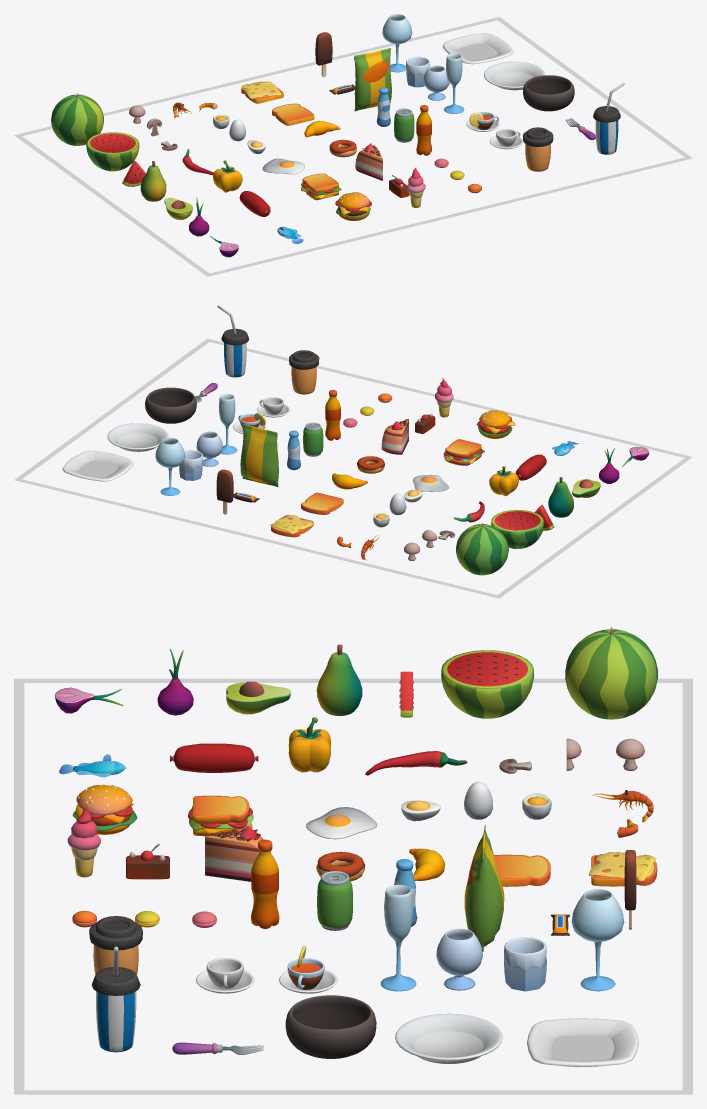
The model's file is food.glb.
3 views of the same model, one above another, from view 1: azimuth 30°, elevation 25°; view 2: azimuth 150°, elevation 25°; view 3: azimuth 270°, elevation 25° (orthographic). The views are drawn at different scales.
Visible parts, largest first — view 1: Frame, watermelon_001, chips_008, watermelon_002, bowl_001, plate_001, plate_007, soda_002, coffee_005, glass_001, burger_001, sandwich_001 (+19 smaller); view 2: Frame, watermelon_001, chips_008, plate_001, bowl_001, watermelon_002, plate_007, soda_002, coffee_005, glass_001, burger_001, sandwich_001 (+16 smaller); view 3: Frame, watermelon_001, watermelon_002, plate_001, bowl_001, plate_007, soda_002, chips_008, glass_001, cheesecake_001, coffee_005, sandwich_001 (+26 smaller).
Part boxes in pixels (x1,y1,x2,y2): Frame: (14, 17, 692, 276); watermelon_001: (51, 93, 103, 145); chips_008: (354, 48, 391, 111); watermelon_002: (86, 132, 139, 171); bowl_001: (523, 75, 574, 111); plate_001: (442, 33, 513, 64); plate_007: (484, 61, 544, 90); soda_002: (593, 82, 624, 154); coffee_005: (523, 127, 553, 171); glass_001: (382, 14, 412, 72); burger_001: (335, 192, 371, 220); sandwich_001: (301, 173, 341, 200); Frame: (14, 338, 692, 598); watermelon_001: (456, 522, 508, 575); chips_008: (240, 424, 278, 486); plate_001: (62, 450, 133, 481); bowl_001: (145, 387, 196, 423); watermelon_002: (491, 510, 544, 548); plate_007: (107, 423, 168, 451); soda_002: (217, 305, 248, 377); coffee_005: (289, 350, 319, 394); glass_001: (155, 437, 185, 495); burger_001: (476, 410, 515, 438); sandwich_001: (443, 439, 484, 465); Frame: (14, 678, 692, 1094); watermelon_001: (565, 627, 657, 719); watermelon_002: (441, 650, 533, 718); plate_001: (527, 1018, 638, 1066); bowl_001: (285, 995, 376, 1058); plate_007: (395, 1013, 502, 1063); soda_002: (91, 946, 140, 1052); chips_008: (464, 825, 504, 951); glass_001: (571, 889, 624, 991); cheesecake_001: (205, 825, 262, 881); coffee_005: (89, 916, 142, 974); sandwich_001: (188, 795, 253, 836).
Size of the model in its own units: 2.12 by 0.3019 by 1.46.
Materials: 2 (1 with a texture image).
